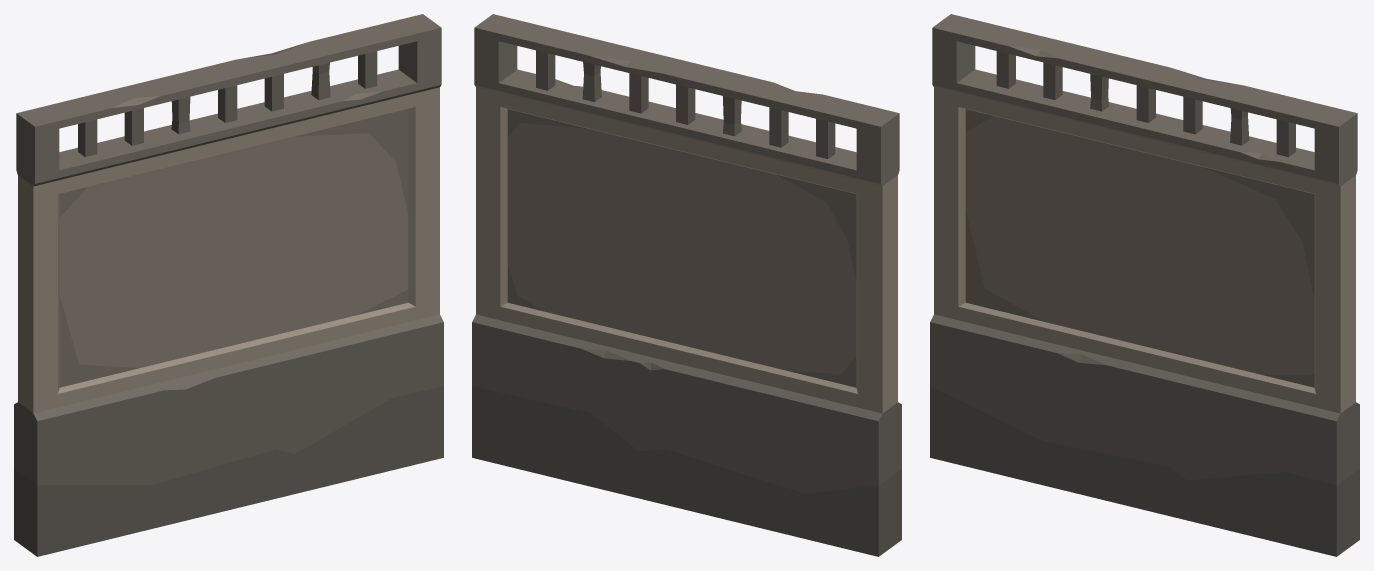
Rendered from SM_Prop_Fence_Concrete_01.fbx.
The picture shows the model from 3 angles, left to right: view 1: azimuth 30°, elevation 25°; view 2: azimuth 150°, elevation 25°; view 3: azimuth 330°, elevation 25°; orthographic projection.
Visible parts, largest first — view 1: SM_Prop_Fence_Concrete_01; view 2: SM_Prop_Fence_Concrete_01; view 3: SM_Prop_Fence_Concrete_01.
Part boxes in pixels (box(x1,y1,x2,y2)): SM_Prop_Fence_Concrete_01: box(14, 14, 443, 556); SM_Prop_Fence_Concrete_01: box(472, 14, 901, 556); SM_Prop_Fence_Concrete_01: box(930, 14, 1359, 556).
Size of the model in its own units: 250 by 252 by 24.76.
